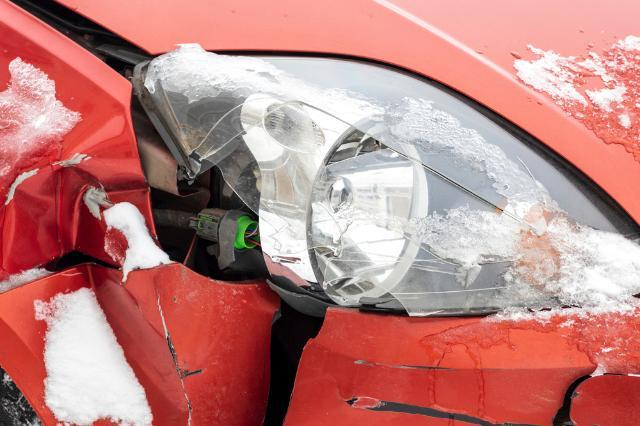crack: (261, 298, 329, 426), (156, 293, 204, 426), (552, 373, 629, 426)
dent: (0, 166, 159, 286)
lamp broken: (135, 49, 640, 317)
scratch: (340, 396, 547, 426), (350, 359, 502, 375)
